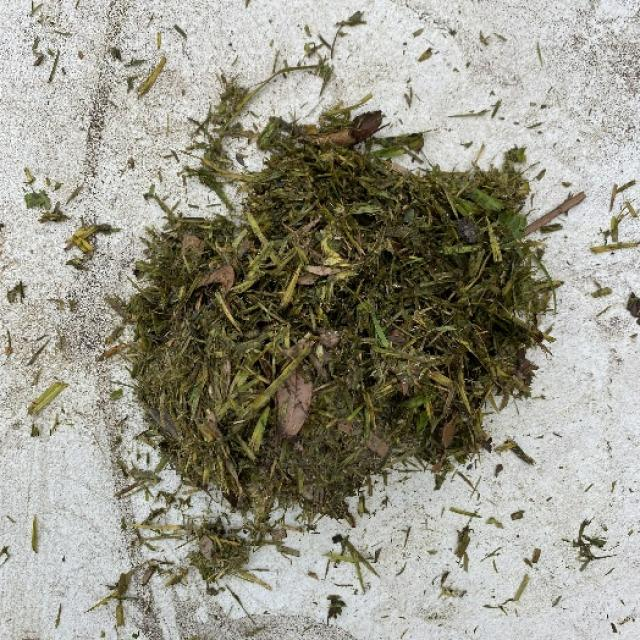organik: (115, 116, 539, 534)
